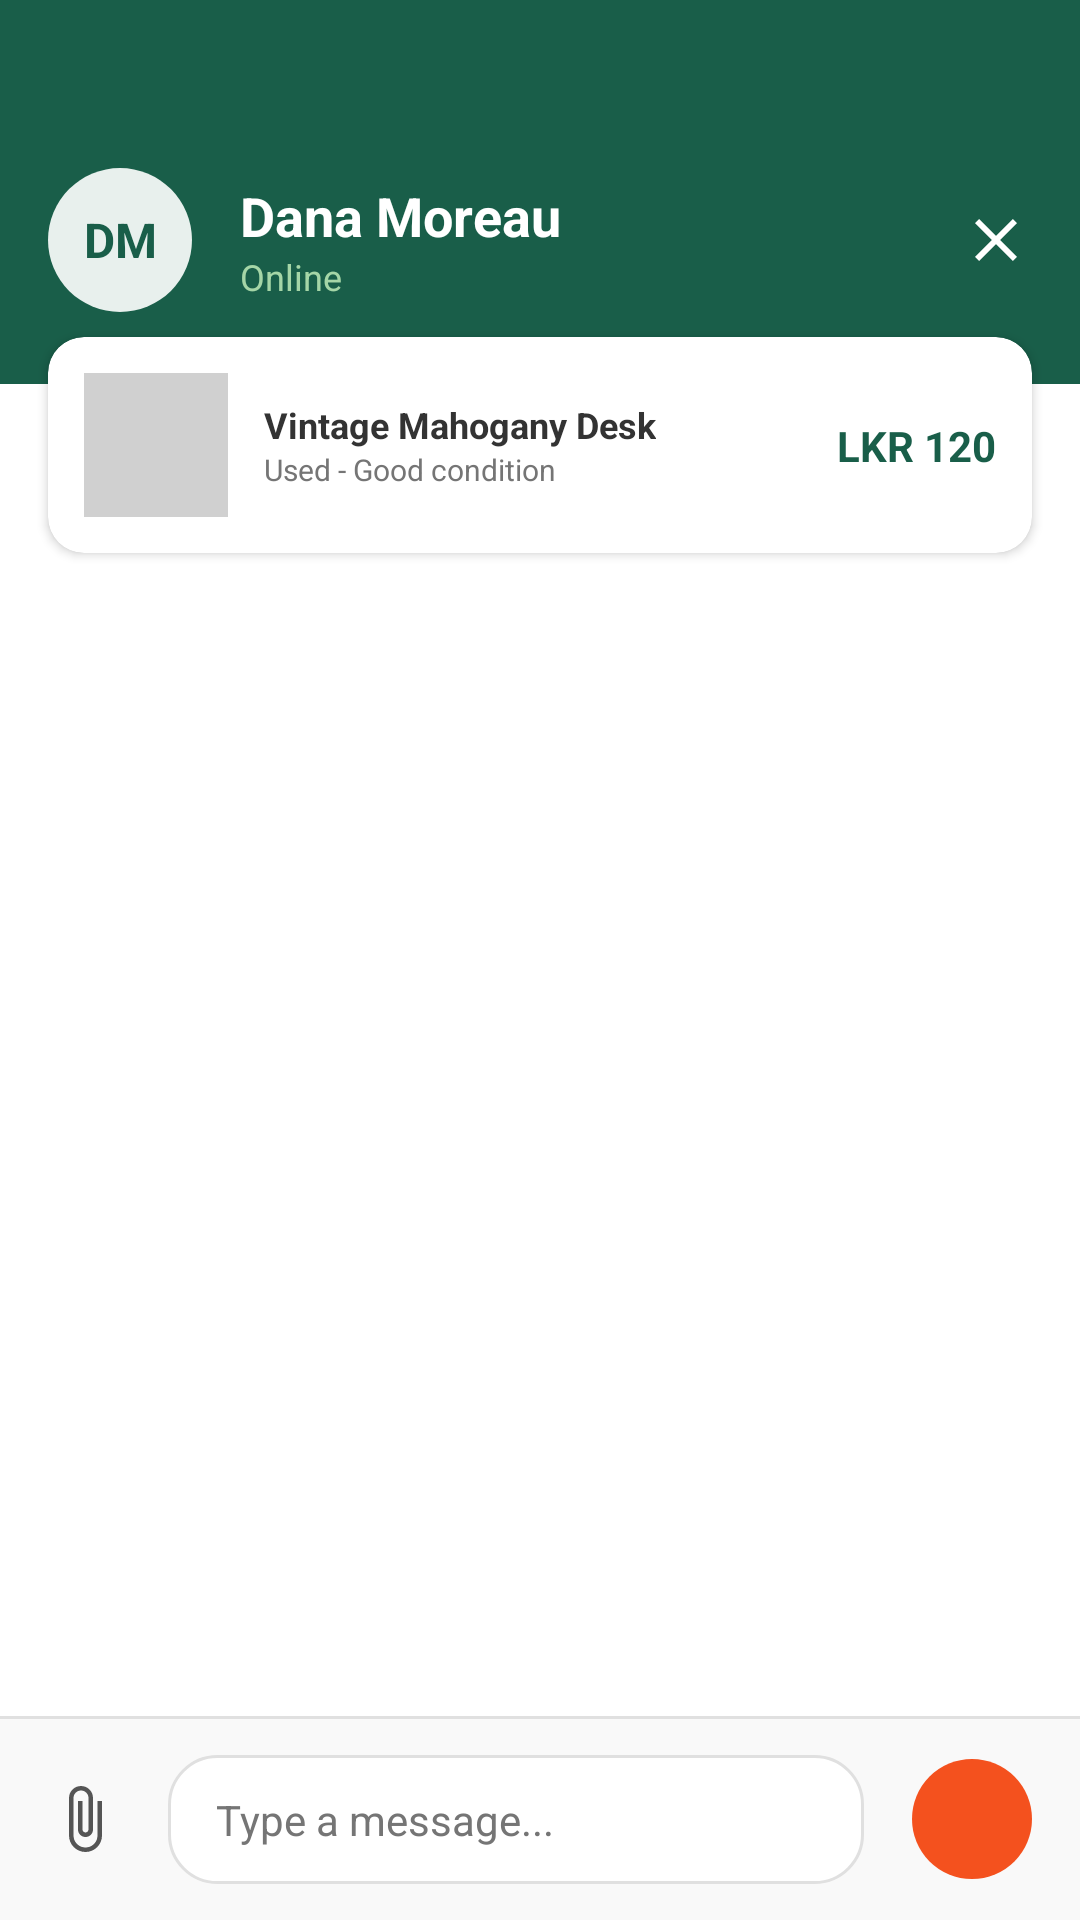

Icon bounding boxes for this 1080*1920 phone screenshot, format [x1=x1, y1=y1, x2=x2, y2=y2]:
attachment: [x1=69, y1=1786, x2=102, y2=1852]
close: [x1=975, y1=219, x2=1017, y2=261]
